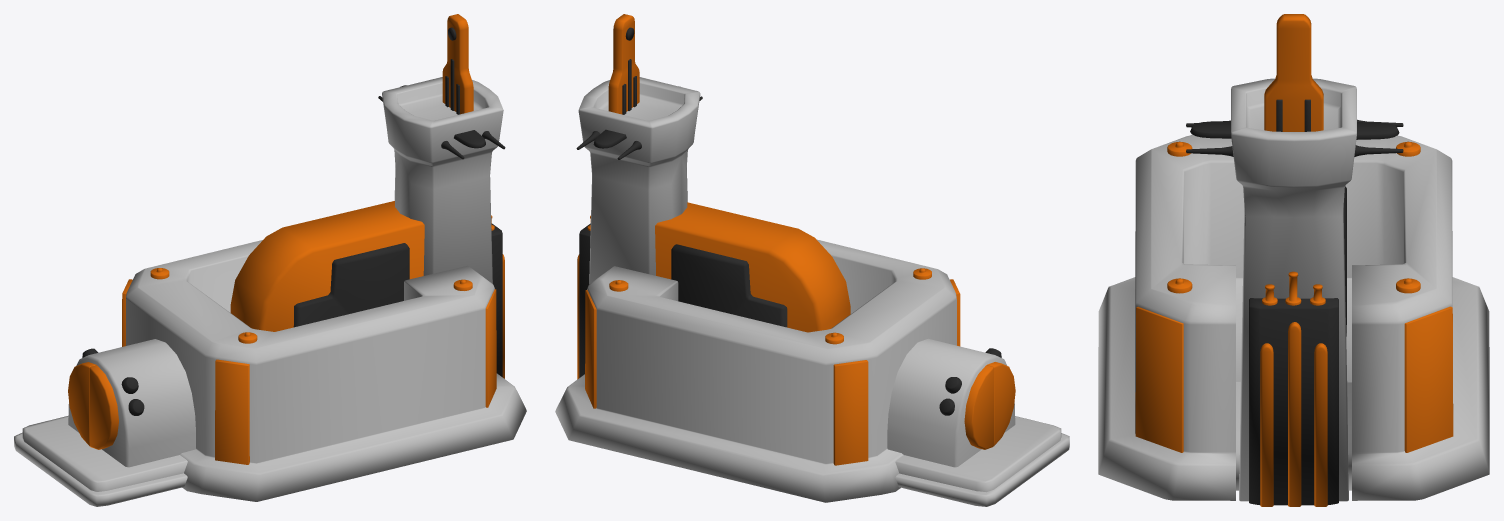
3 renders of one model, left to right at view 1: azimuth 30°, elevation 25°; view 2: azimuth 150°, elevation 25°; view 3: azimuth 270°, elevation 25°, orthographic. The views are drawn at different scales.
Parts seen in each view (by area): view 1: Drone_control_center.003; view 2: Drone_control_center.003; view 3: Drone_control_center.003.
Boxes of the visible parts, x1=… form: Drone_control_center.003: x1=14, y1=14, x2=526, y2=506; Drone_control_center.003: x1=555, y1=14, x2=1069, y2=506; Drone_control_center.003: x1=1098, y1=14, x2=1489, y2=506.
Bounding box in the file's own units: 16.53 × 13.05 × 9.78.
